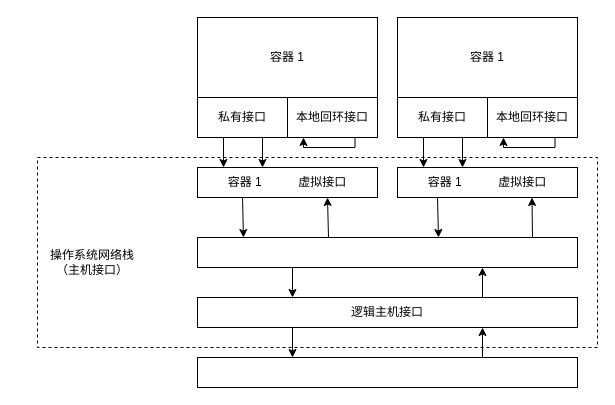
The diagram is 615 pixels wide and 405 high, and some of its shapes have lost their labels. The centre of each missing label's shape, as x and y in pixels:
"Docker 虚拟网桥接口 (docker0)" belongs at pixel 387 252.
"物理网络接口" belongs at pixel 387 372.
